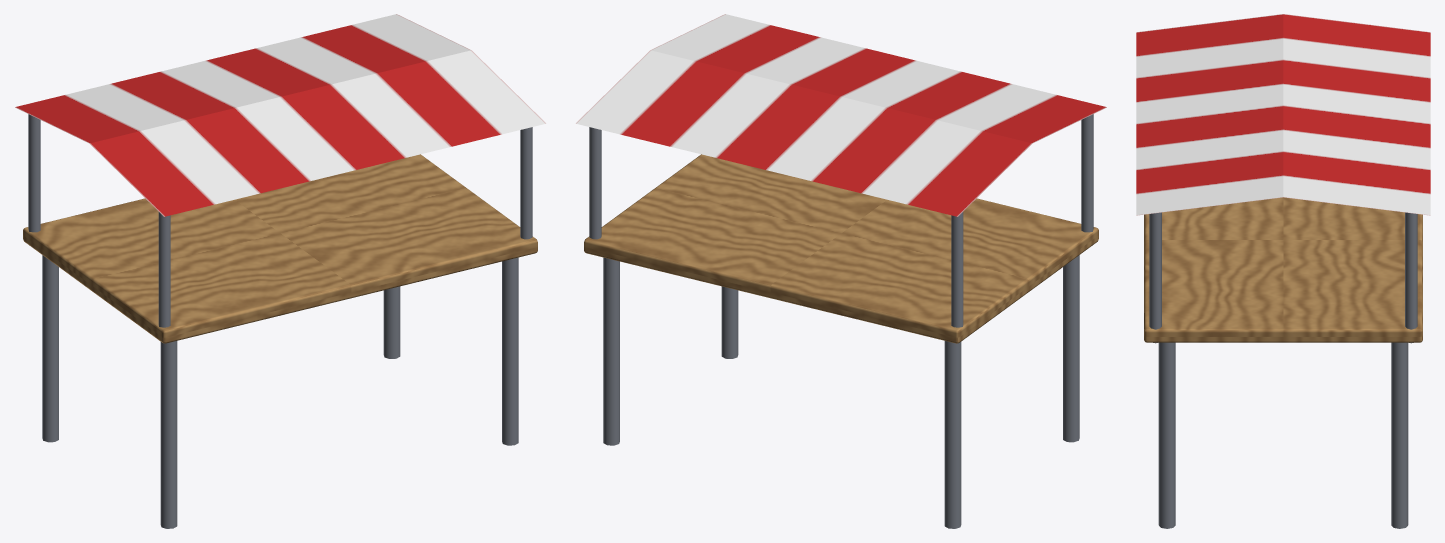
The model's file is MobileStand.obj.
The picture shows the model from 3 angles, left to right: view 1: azimuth 30°, elevation 25°; view 2: azimuth 150°, elevation 25°; view 3: azimuth 270°, elevation 25°; orthographic projection.
Bounding box in the file's own units: 0.56 × 0.481 × 0.38.
